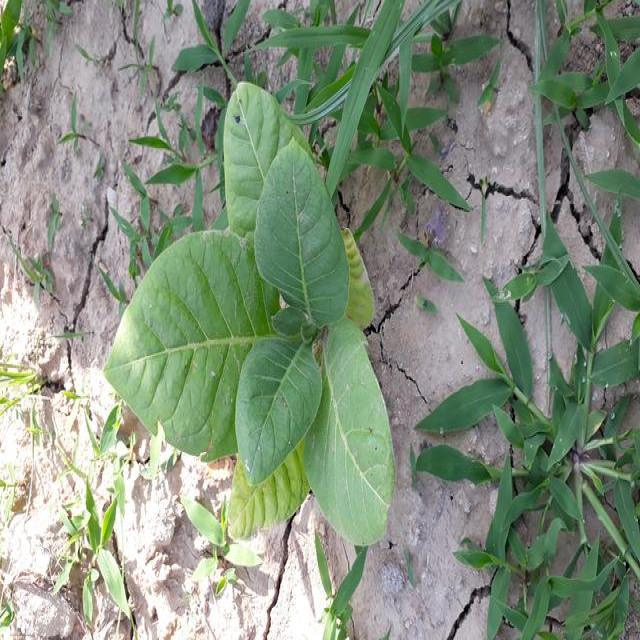crop: (96, 77, 387, 544)
